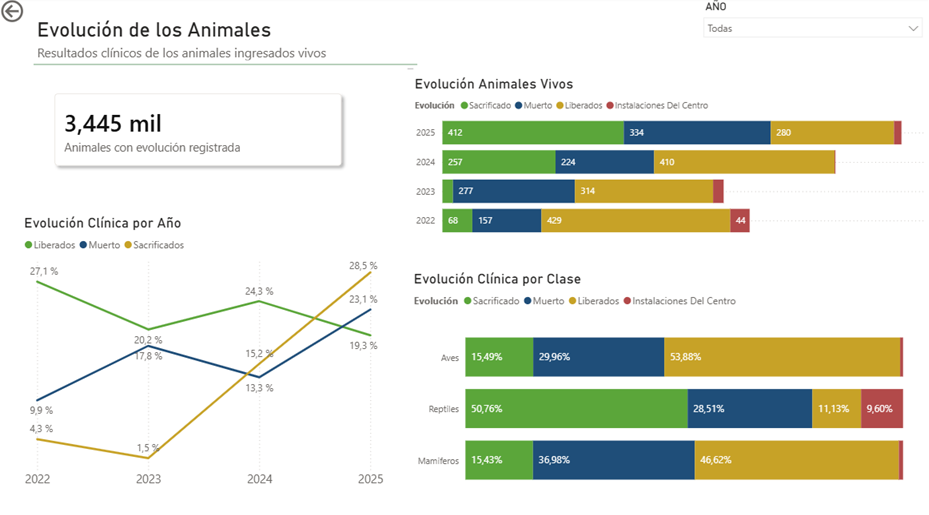

This screenshot's page, from the dashboard's own definition file:
{"tool":"powerbi","page":{"name":"Evolución de los Animales","canvas":[1280,720],"ordinal":2},"visuals":[{"type":"actionButton","box":[0,0,100,40],"z":0},{"type":"slicer","fields":{"Values":["fauna_2022_2025_clean.AÑO"]},"box":[959.2,0,321.1,65.9],"z":1000},{"type":"barChart","title":"Evolución Animales Vivos","fields":{"Series":["fauna_2022_2025_clean.EVOLUCION"],"Category":["fauna_2022_2025_clean.AÑO"],"Y":["CountNonNull(fauna_2022_2025_clean.ID_UNICO)"]},"box":[567.4,108.7,712.9,228.6],"z":2000},{"type":"lineChart","title":"Evolución Clínica por Año","fields":{"Category":["fauna_2022_2025_clean.AÑO"],"Y":["fauna_2022_2025_clean.% Liberados","fauna_2022_2025_clean.% Muerto","fauna_2022_2025_clean.% Sacrificados"]},"box":[31.6,299.1,503.6,385.6],"z":3000},{"type":"hundredPercentStackedBarChart","title":"Evolución Clínica por Clase","fields":{"Category":["fauna_2022_2025_clean.CLASE"],"Series":["fauna_2022_2025_clean.EVOLUCION"],"Y":["CountNonNull(fauna_2022_2025_clean.ID_UNICO)"]},"box":[566.7,376,682,323.8],"z":4000},{"type":"cardVisual","fields":{"Data":["CountNonNull(fauna_2022_2025_clean.ID_UNICO)"]},"box":[49.4,104.3,452.8,157.8],"z":5000},{"type":"textbox","title":"Evolución de los Animales","box":[49.4,28.8,526.9,75.5],"z":6000}]}

Visuals, with their boxes in screenshot pixels (x1, y1, x2, y2), scaled from the page's 1280x720 canvas onto the 929x515 screenshot:
actionButton: BBox(0, 0, 73, 29)
slicer - fauna_2022_2025_clean.AÑO: BBox(696, 0, 928, 47)
"Evolución Animales Vivos" barChart: BBox(412, 78, 928, 241)
"Evolución Clínica por Año" lineChart: BBox(23, 214, 388, 490)
"Evolución Clínica por Clase" hundredPercentStackedBarChart: BBox(411, 269, 906, 501)
cardVisual - CountNonNull(fauna_2022_2025_clean.ID_UNICO): BBox(36, 75, 364, 187)
"Evolución de los Animales" textbox: BBox(36, 21, 418, 75)
